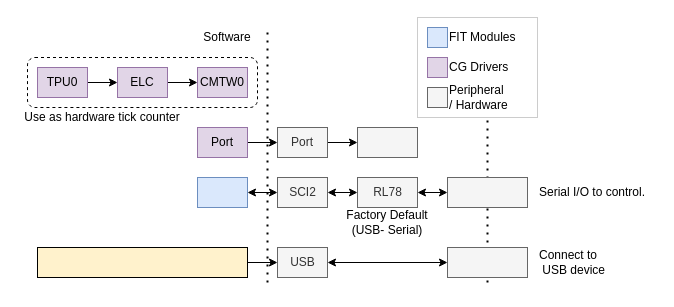
Some shapes in this 674 by 307 pixel diagram are drawn without their labels. The shapes that lost their labels are listed below. From the top down, each one's centre as x and y in pixels, then its label:
the point at 387,142: User LED
the point at 222,192: r_sci_rx
the point at 487,192: USB (MicroB) (CN8)
the point at 142,262: Tiny USB
the point at 487,262: USB (TypeA) (CN4)
